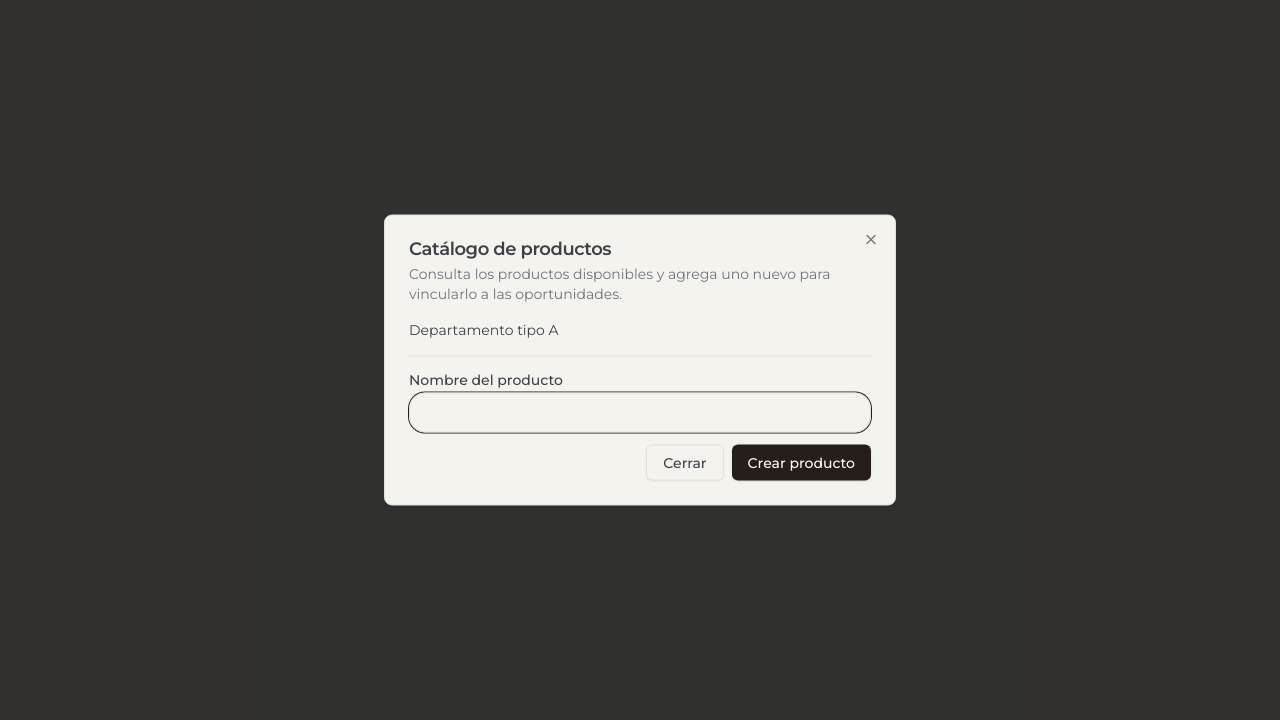
Test: ProductosAdminDialog › el formulario de creación rechaza un nombre vacío
Click the button "Crear producto" at (801, 462), box [732, 444, 871, 480]
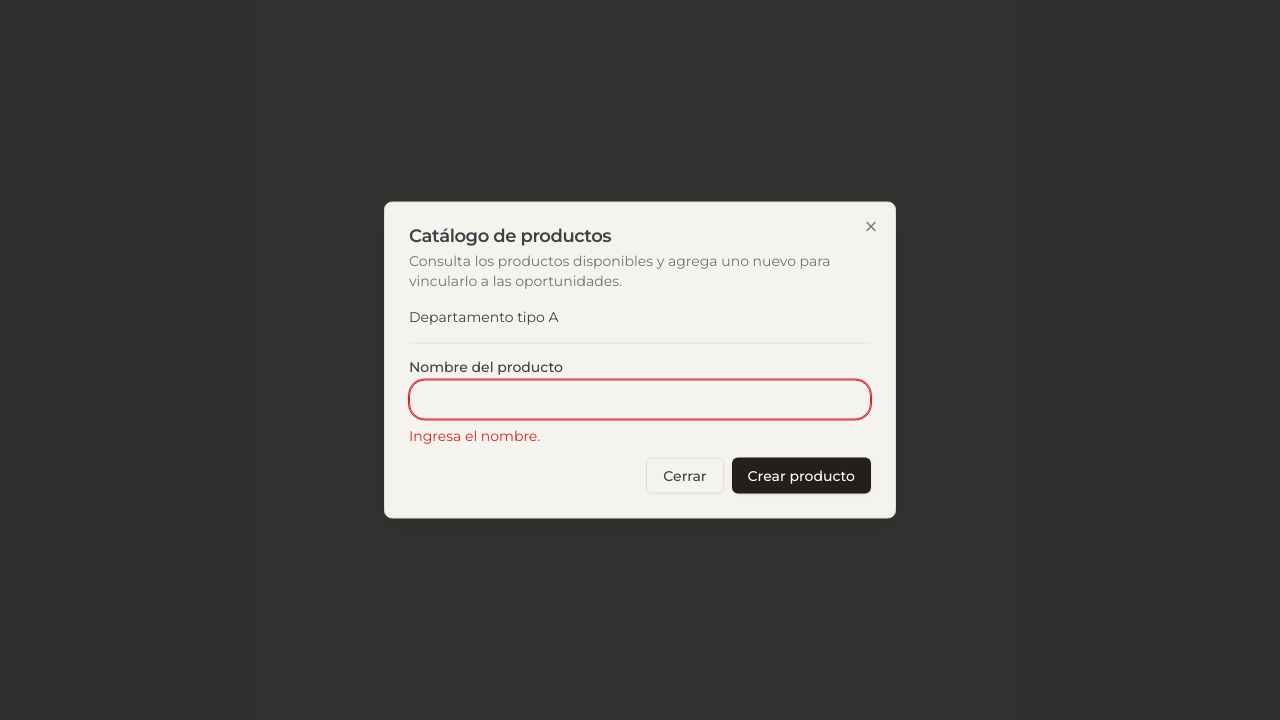
Expected: the text "Ingresa el nombre." is shown, [409, 426, 540, 444]
